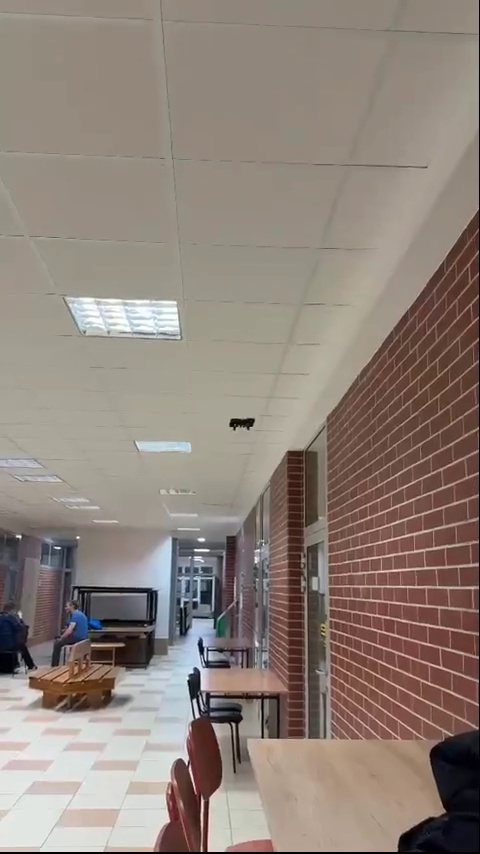drone: (229, 417, 252, 430)
no vest: (0, 599, 41, 668), (55, 592, 91, 662)
